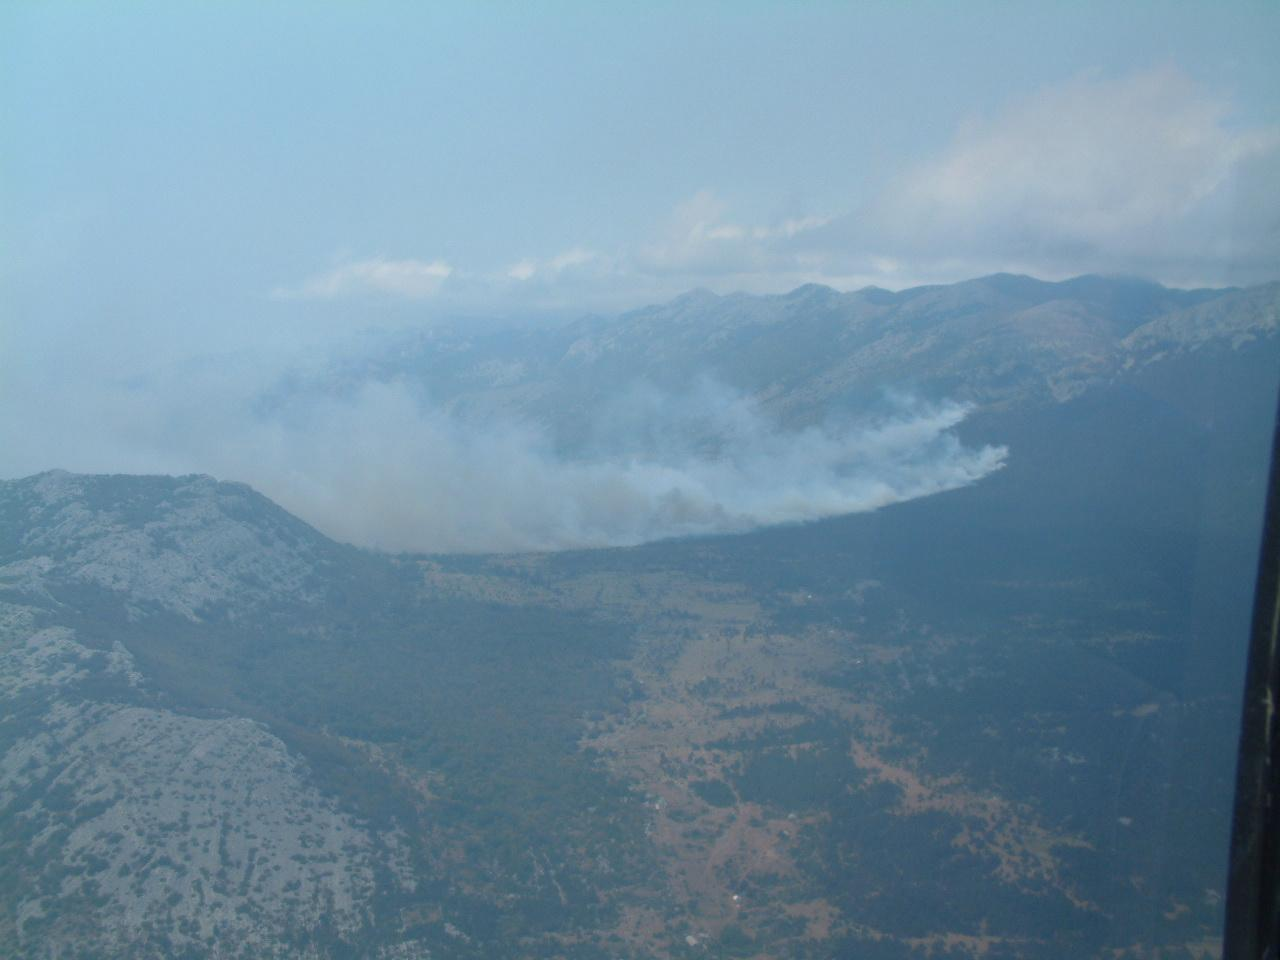Smoke: (0, 279, 1021, 553)
